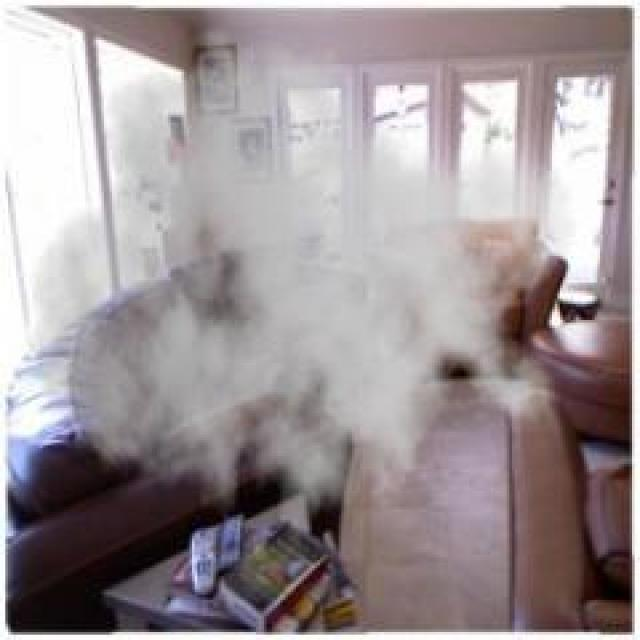Smoke: (28, 12, 580, 572)
